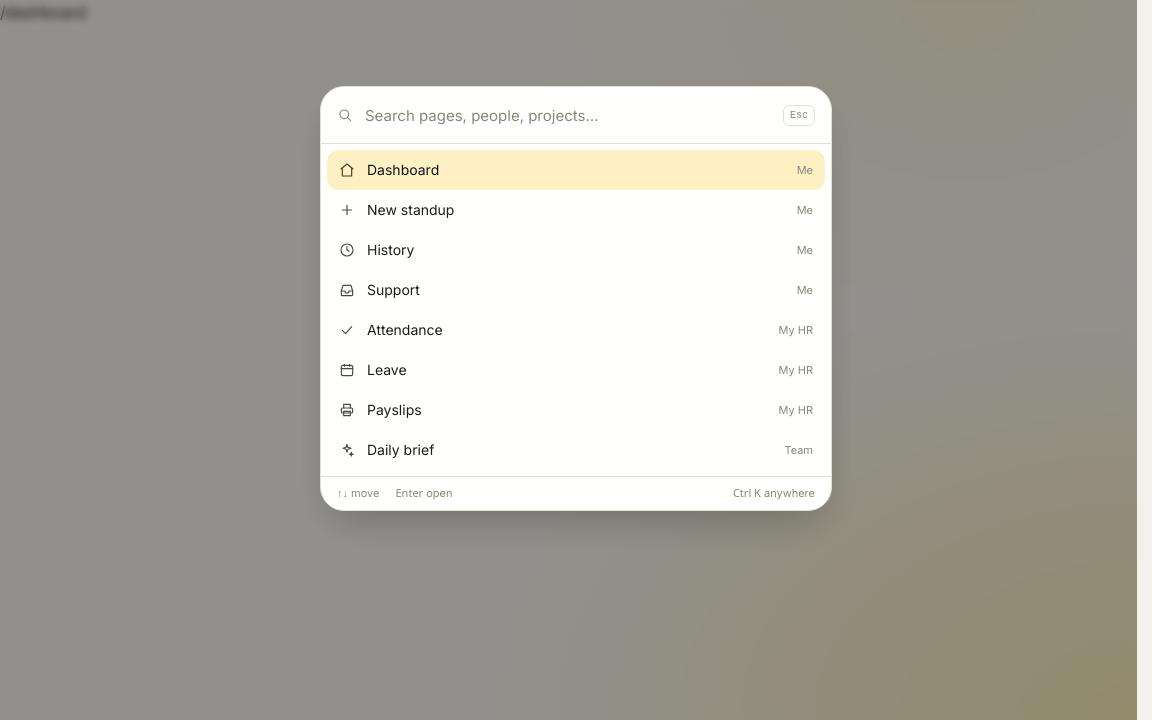
the palette › offers a manager their team pages
Type "leave approvals" into the field named "Search pages and actions" at [568, 115], box [365,87,771,143]
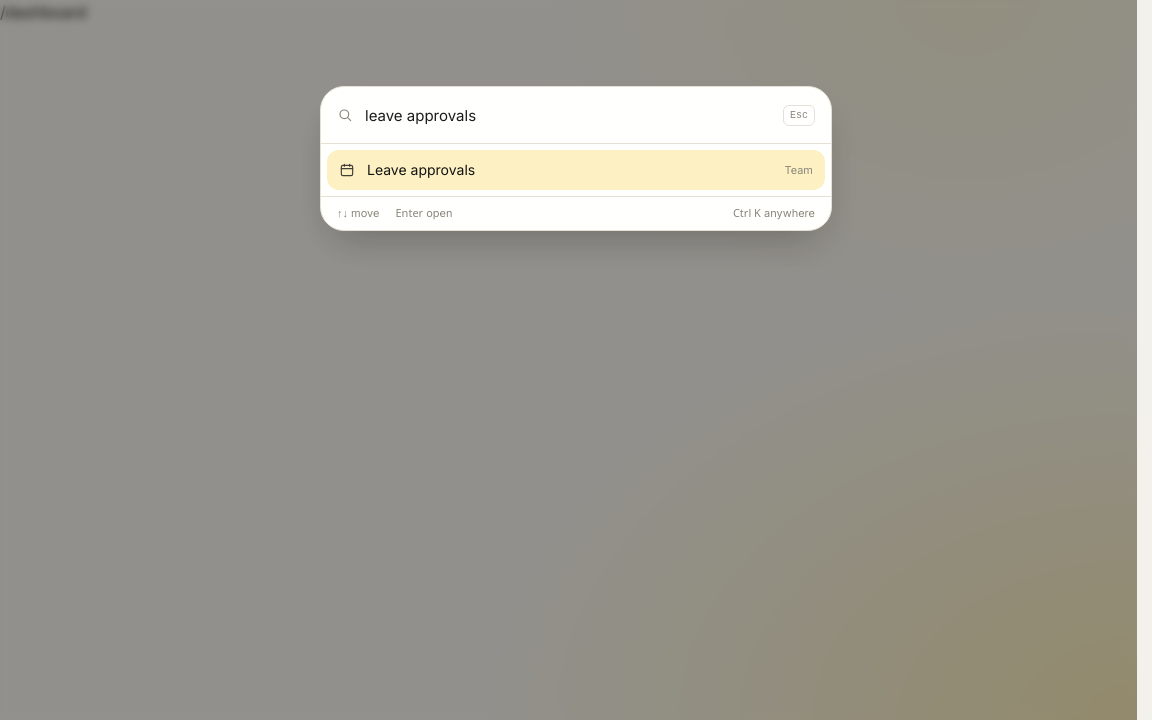
Now the option "Leave approvals Team" is shown, box [327,150,825,190]
